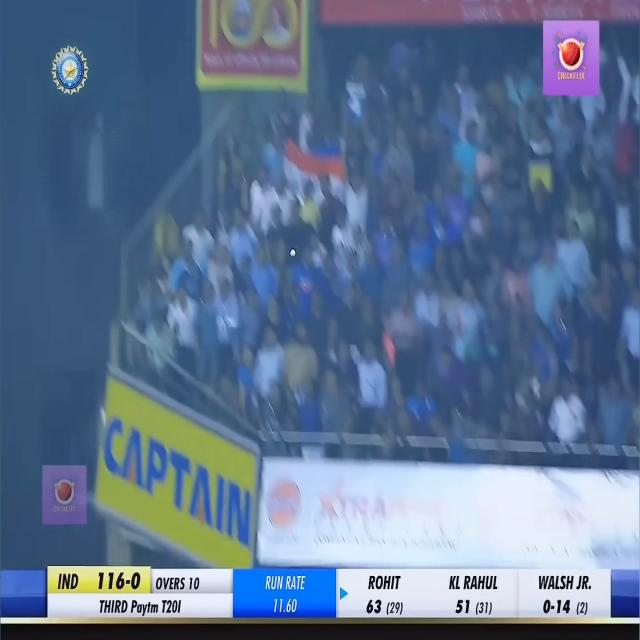fully_visible: (128, 590, 160, 620)
